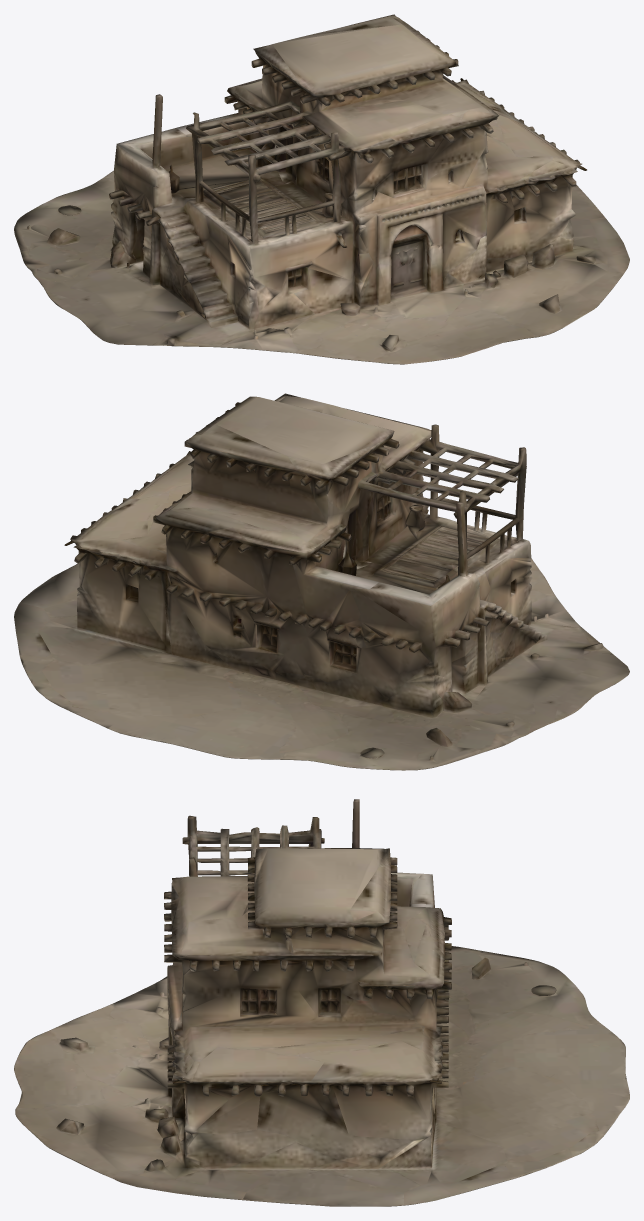
Rendered from house_15.glb.
3 renders of one model, top to bottom at view 1: azimuth 30°, elevation 25°; view 2: azimuth 150°, elevation 25°; view 3: azimuth 270°, elevation 25°, orthographic. The views are drawn at different scales.
Visible parts, largest first — view 1: node_0; view 2: node_0; view 3: node_0.
Part boxes in pixels (left/top/right/bottom): node_0: left=14, top=14, right=629, bottom=364; node_0: left=14, top=393, right=629, bottom=770; node_0: left=14, top=799, right=629, bottom=1206.
Size of the model in its own units: 1.08 by 0.3899 by 1.03.
Materials: 1 (1 with a texture image).
